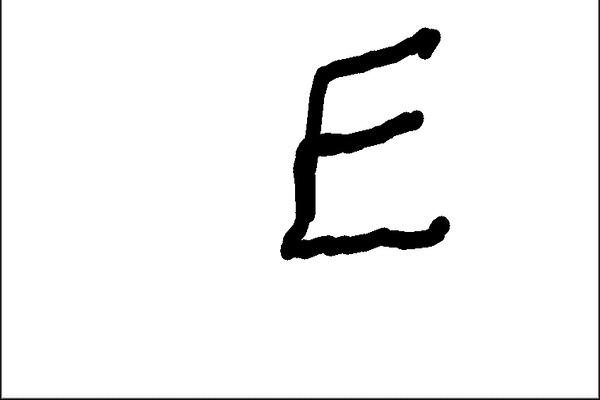E: (274, 21, 461, 267)
